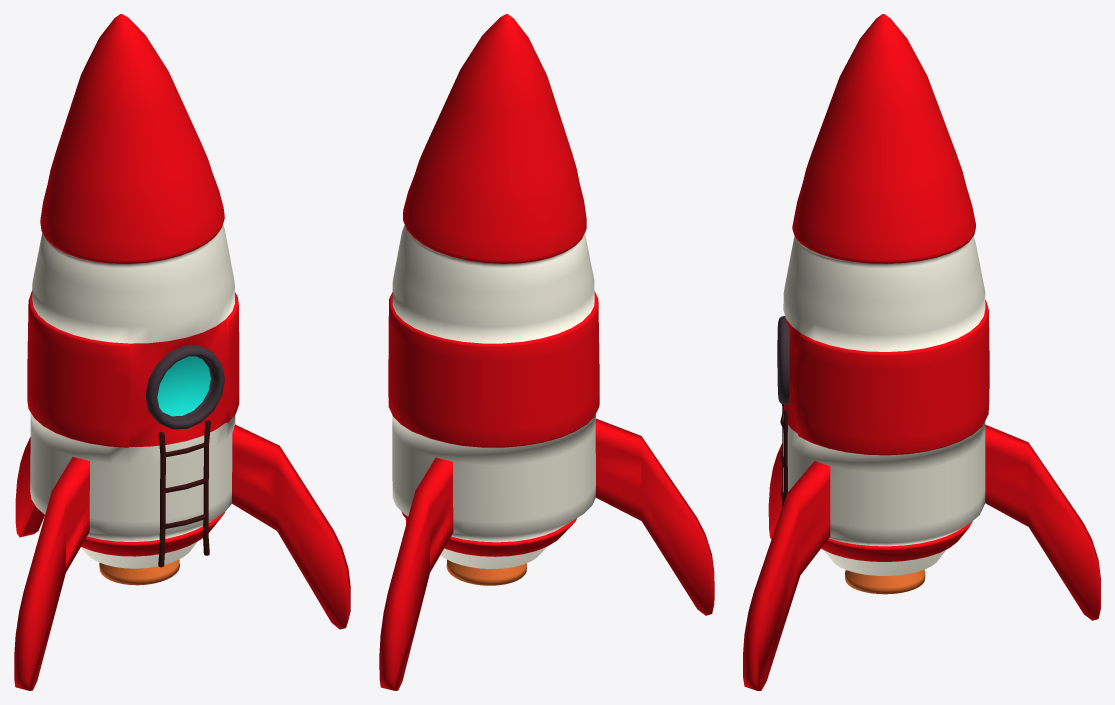
The model's file is Rakete.glb.
3 renders of one model, left to right at view 1: azimuth 30°, elevation 25°; view 2: azimuth 150°, elevation 25°; view 3: azimuth 270°, elevation 25°, orthographic.
Visible parts, largest first — view 1: Cylinder.002; view 2: Cylinder.002; view 3: Cylinder.002.
Part boxes in pixels (bbox=[...]): Cylinder.002: bbox=[14, 14, 350, 690]; Cylinder.002: bbox=[379, 14, 714, 690]; Cylinder.002: bbox=[743, 14, 1100, 690].
Size of the model in its own units: 1.68 by 3 by 1.62.
